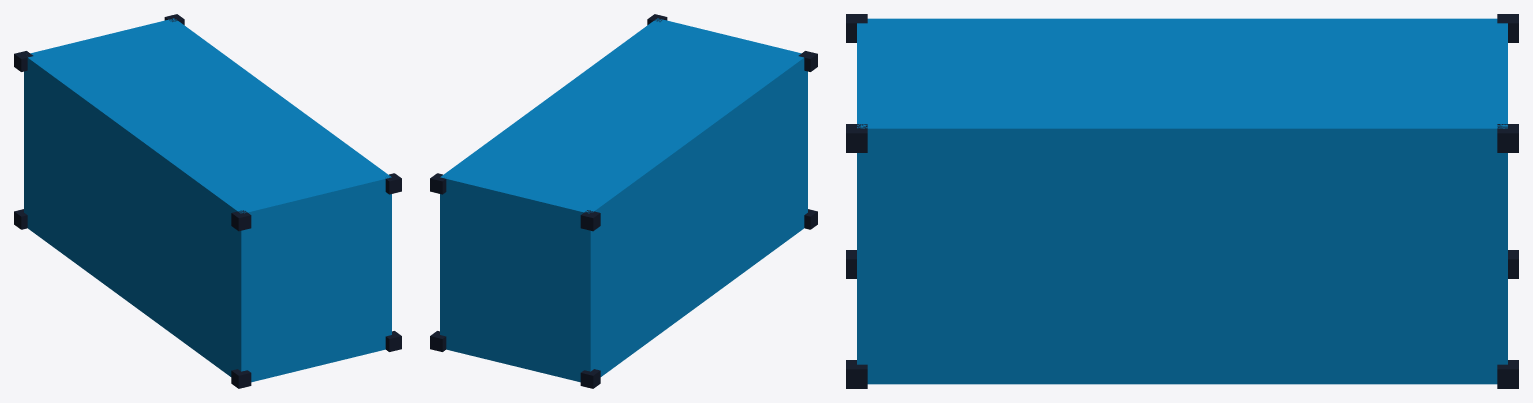
File: cargo_container.glb
3 renders of one model, left to right at view 1: azimuth 30°, elevation 25°; view 2: azimuth 150°, elevation 25°; view 3: azimuth 270°, elevation 25°, orthographic. The views are drawn at different scales.
Bounding box in the file's own units: 2.6 × 2.6 × 6.2.
